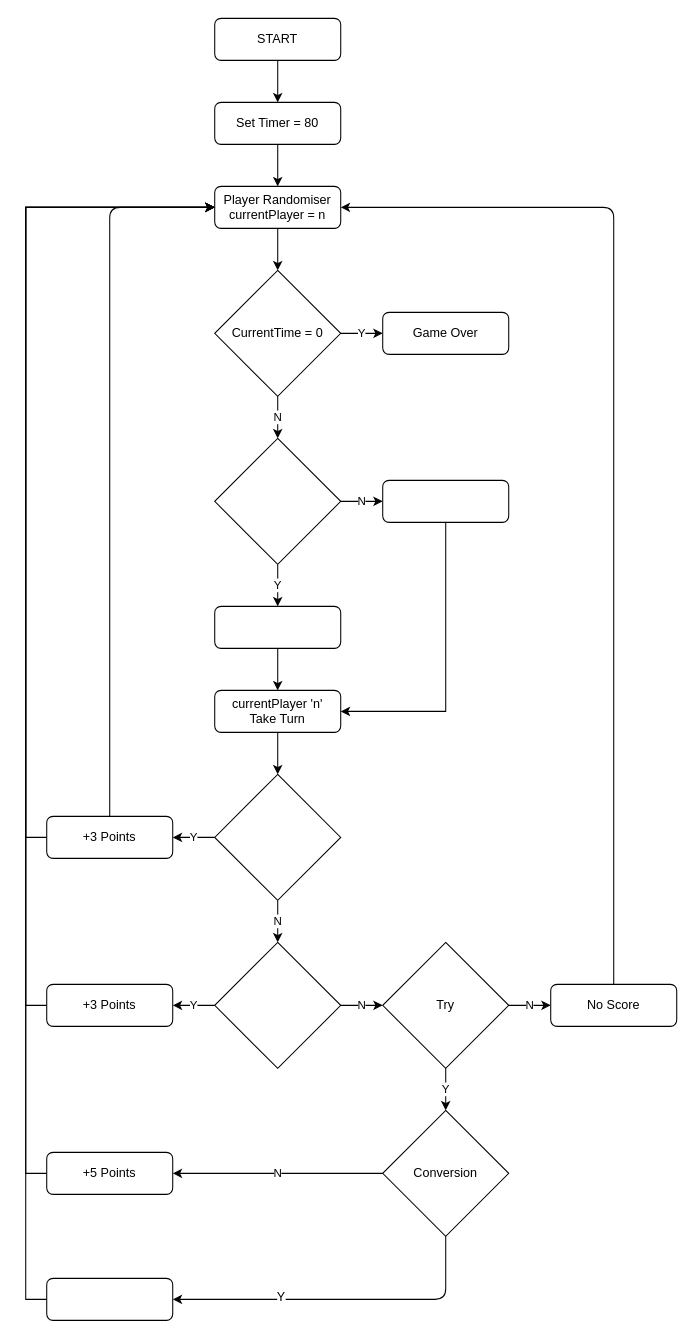
Image size: 695x1339. Some labels were removed from this diagram. Here are the shapes that lost their labels. From the top down, the centre of each, then its label:
the point at 277,500: CurrentTime < 40
the point at 445,500: halfFlag = 2
the point at 277,626: halfFlag = 1
the point at 277,836: Drop Goal
the point at 277,1004: Penalty
the point at 109,1298: +7 Points
